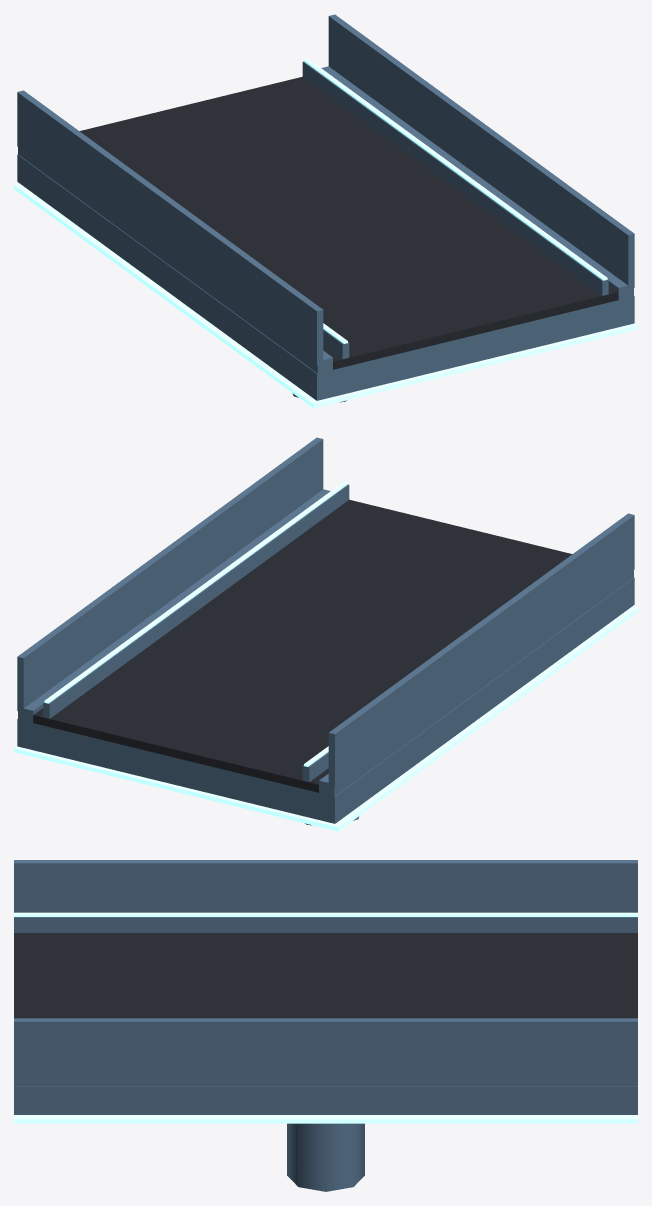
File: road_future_bridge_lod1.glb
3 renders of one model, top to bottom at view 1: azimuth 30°, elevation 25°; view 2: azimuth 150°, elevation 25°; view 3: azimuth 270°, elevation 25°, orthographic. The views are drawn at different scales.
Parts seen in each view (by area): view 1: body; view 2: body; view 3: body.
Boxes of the visible parts, x1,y1,x2,y2 form: body: (14,14,637,408); body: (14,437,637,831); body: (14,860,637,1191).
Size of the model in its own units: 5 by 3.32 by 8.
